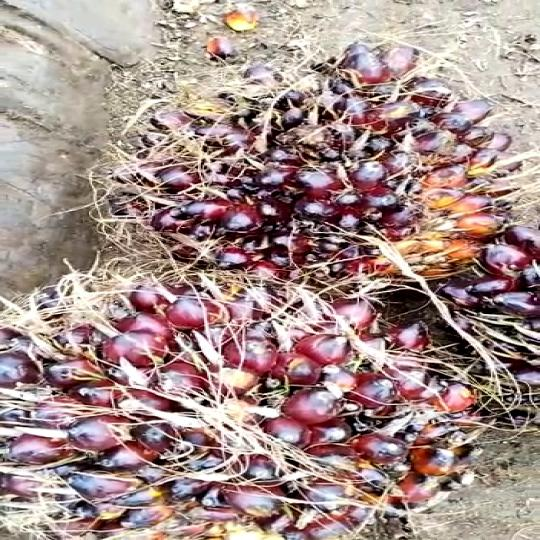kurang masak: (0, 242, 516, 540), (130, 14, 540, 269)
